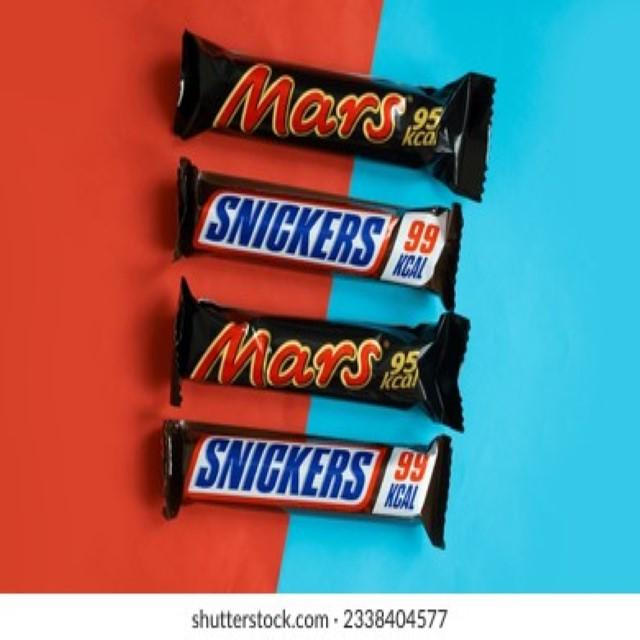mars_chocolate: (188, 33, 500, 170), (156, 322, 482, 388)
snickers_chocolate: (160, 155, 473, 292), (152, 424, 476, 524)
